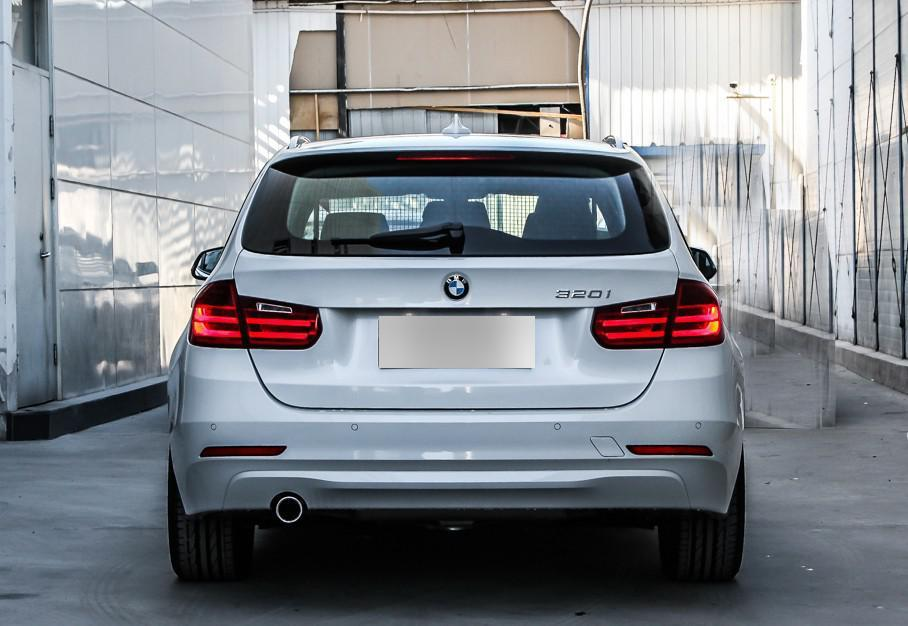Wagon: (168, 114, 745, 585)
